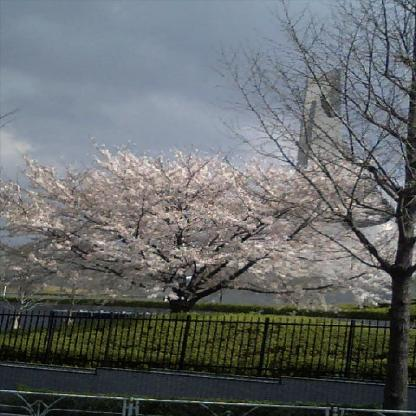Someiyoshino: (1, 148, 394, 296)
